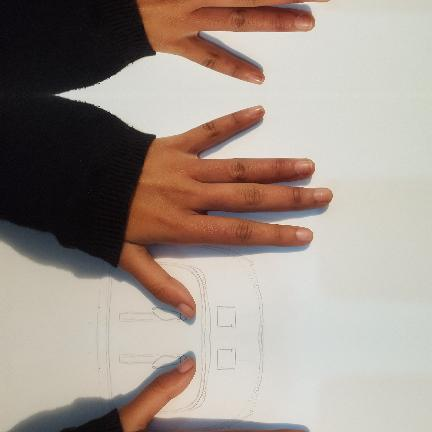Nail: (294, 160, 312, 173), (294, 15, 312, 28), (296, 228, 312, 242), (176, 302, 192, 316), (176, 358, 192, 372), (313, 188, 330, 201), (247, 105, 263, 115), (247, 73, 263, 83)
